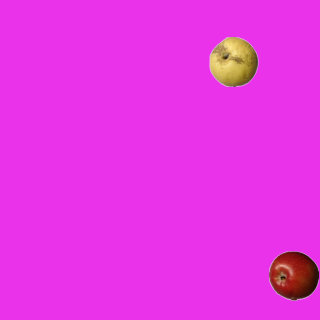Apple Braeburn: (268, 250, 318, 300)
Apple Golden 1: (208, 36, 258, 86)
